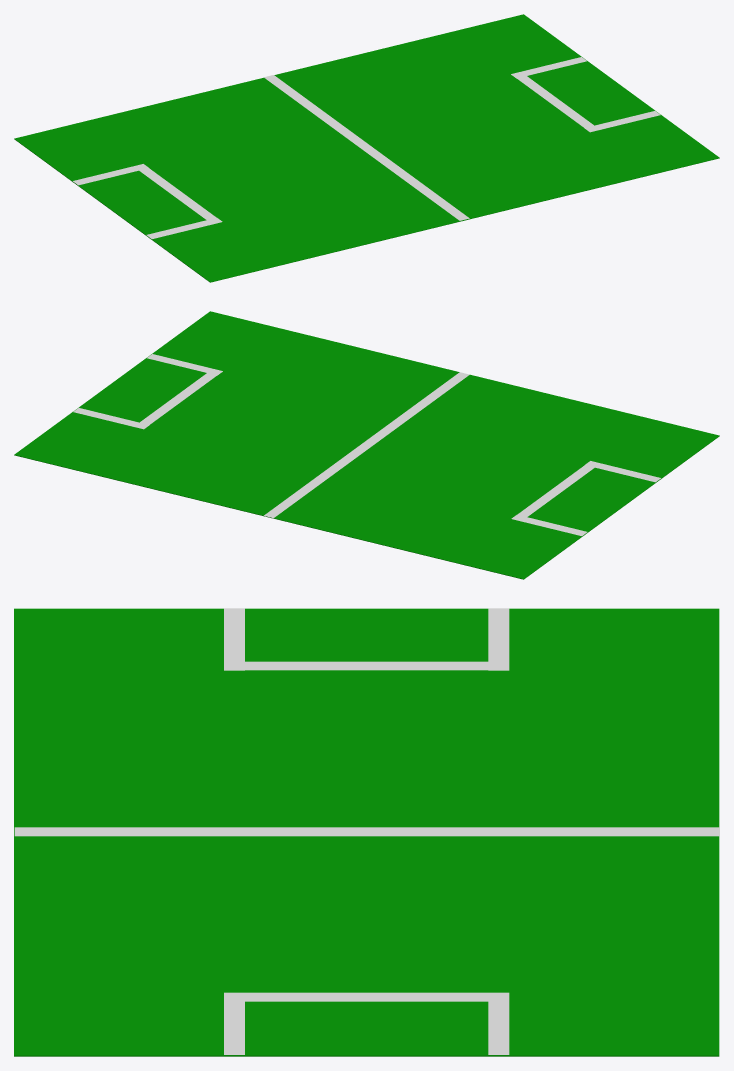
The model's file is CampoDeJuego.fbx.
The picture shows the model from 3 angles, top to bottom: view 1: azimuth 30°, elevation 25°; view 2: azimuth 150°, elevation 25°; view 3: azimuth 270°, elevation 25°; orthographic projection. The views are drawn at different scales.
Parts seen in each view (by area): view 1: Cube, Plane.003, Plane.004, Plane.002, Plane, Plane.001; view 2: Cube, Plane.003, Plane.004, Plane.002, Plane.001, Plane; view 3: Cube, Plane.003, Plane.004, Plane.002, Plane.001, Plane.
Boxes of the visible parts, x1,y1,x2,y2 form: Cube: [14, 14, 719, 282]; Plane.003: [264, 75, 469, 220]; Plane.004: [511, 57, 660, 132]; Plane.002: [134, 164, 218, 220]; Plane: [146, 217, 222, 238]; Plane.001: [73, 164, 148, 185]; Cube: [14, 311, 719, 579]; Plane.003: [264, 372, 469, 518]; Plane.004: [73, 354, 222, 429]; Plane.002: [517, 463, 598, 516]; Plane.001: [511, 514, 587, 535]; Plane: [585, 461, 660, 482]; Cube: [14, 608, 719, 1056]; Plane.003: [14, 827, 719, 836]; Plane.004: [224, 992, 509, 1054]; Plane.002: [231, 661, 505, 670]; Plane.001: [488, 608, 509, 670]; Plane: [224, 608, 244, 670].
Bounding box in the file's own units: 2400 × 3 × 1602.
Materials: 1 (1 with a texture image).
